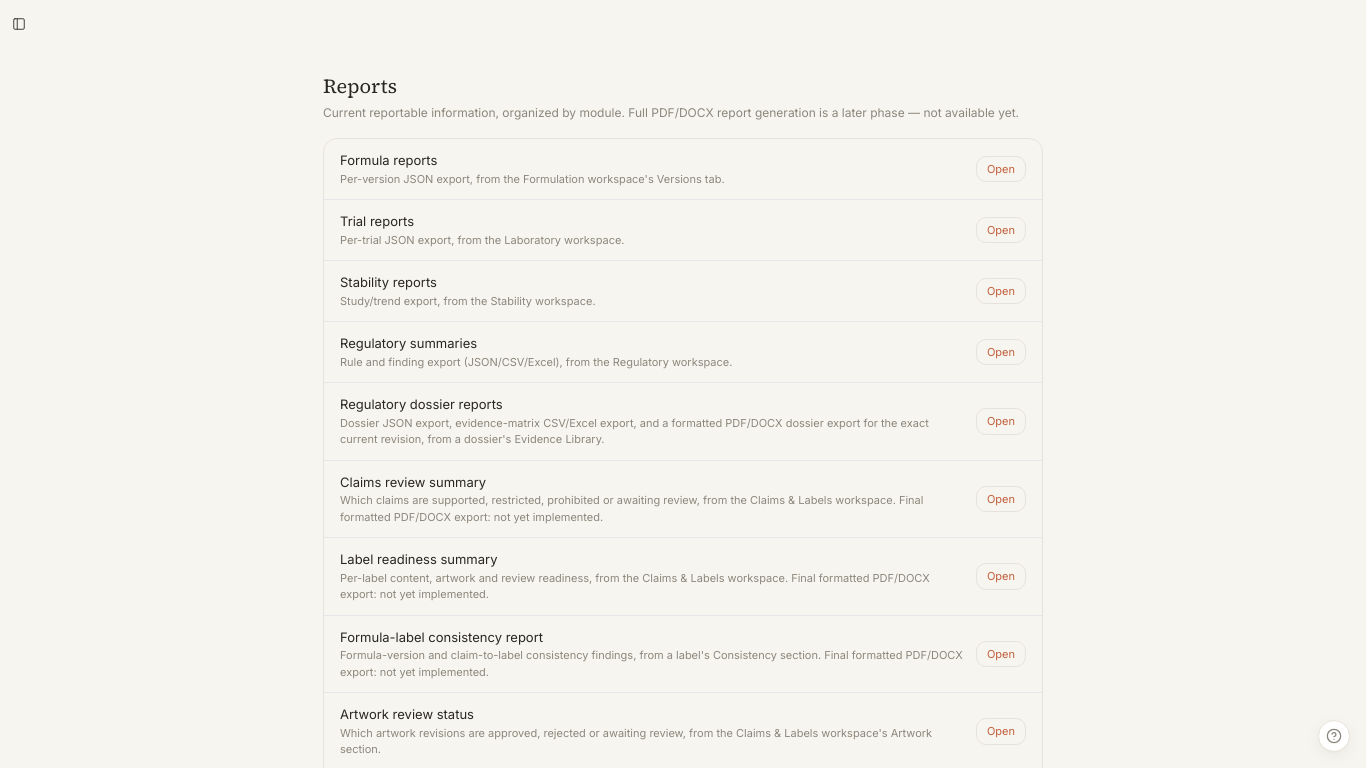
Test: AppShell — restore navigation still works on non-live routes (existing behavior preserved) › the Help button still opens the panel correctly while the sidebar is collapsed
The image size is (1366, 768).
Expected: the button named "Expand sidebar" is shown, [8,13,30,35]
Click the button named "Help": (1334, 736) [1318,720,1350,752]
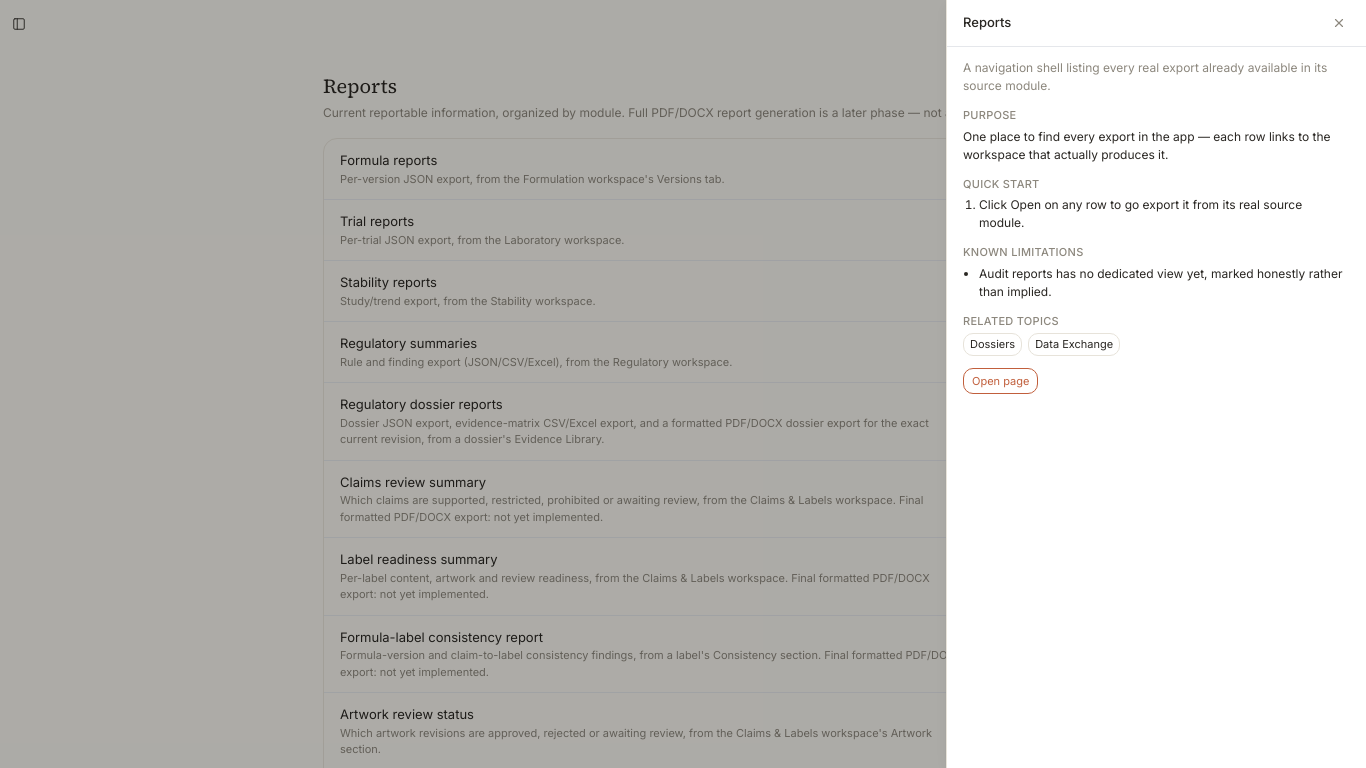
Now the dialog is shown, box [946,0,1365,767]
